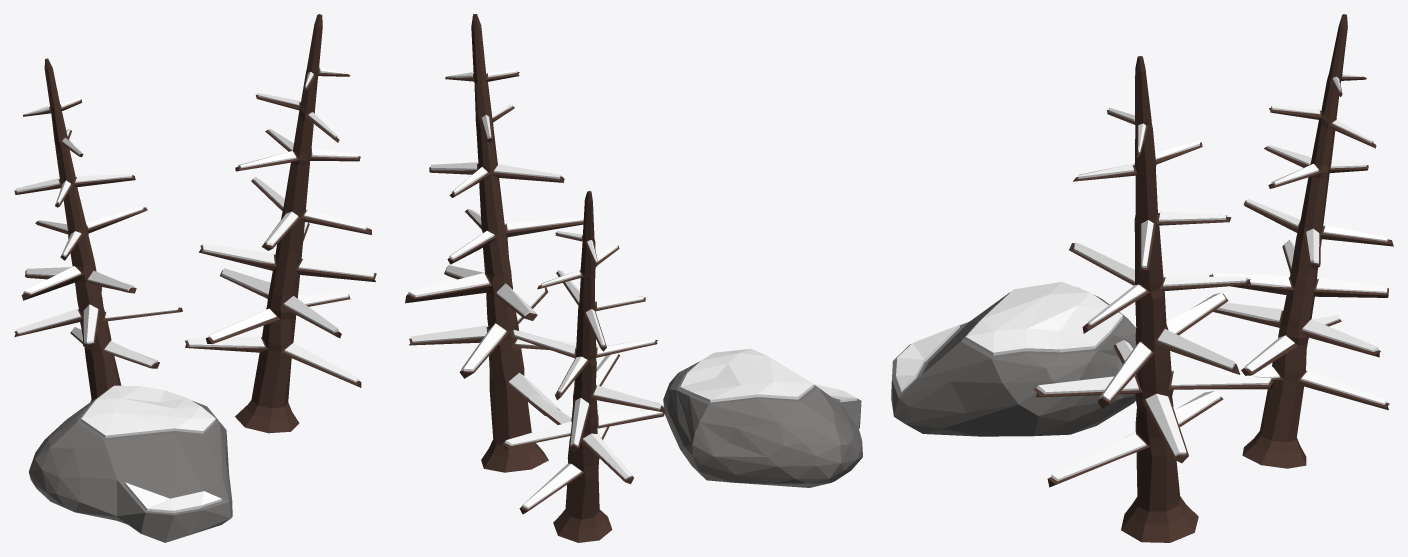
3 renders of one model, left to right at view 1: azimuth 30°, elevation 25°; view 2: azimuth 150°, elevation 25°; view 3: azimuth 270°, elevation 25°, orthographic. The views are drawn at different scales.
Parts seen in each view (by area): view 1: Cube.006, Cylinder.008, Cylinder.002; view 2: Cube.006, Cylinder.008, Cylinder.002; view 3: Cylinder.008, Cube.006, Cylinder.002.
Part boxes in pixels (bbox=[...]): Cube.006: bbox=[29, 385, 232, 542]; Cylinder.008: bbox=[185, 14, 376, 433]; Cylinder.002: bbox=[14, 58, 182, 401]; Cube.006: bbox=[663, 348, 862, 487]; Cylinder.008: bbox=[405, 14, 599, 472]; Cylinder.002: bbox=[502, 191, 665, 542]; Cylinder.008: bbox=[1033, 56, 1273, 542]; Cube.006: bbox=[891, 282, 1135, 436]; Cylinder.002: bbox=[1209, 14, 1393, 468].
Bounding box in the file's own units: 546 × 584 × 533.
